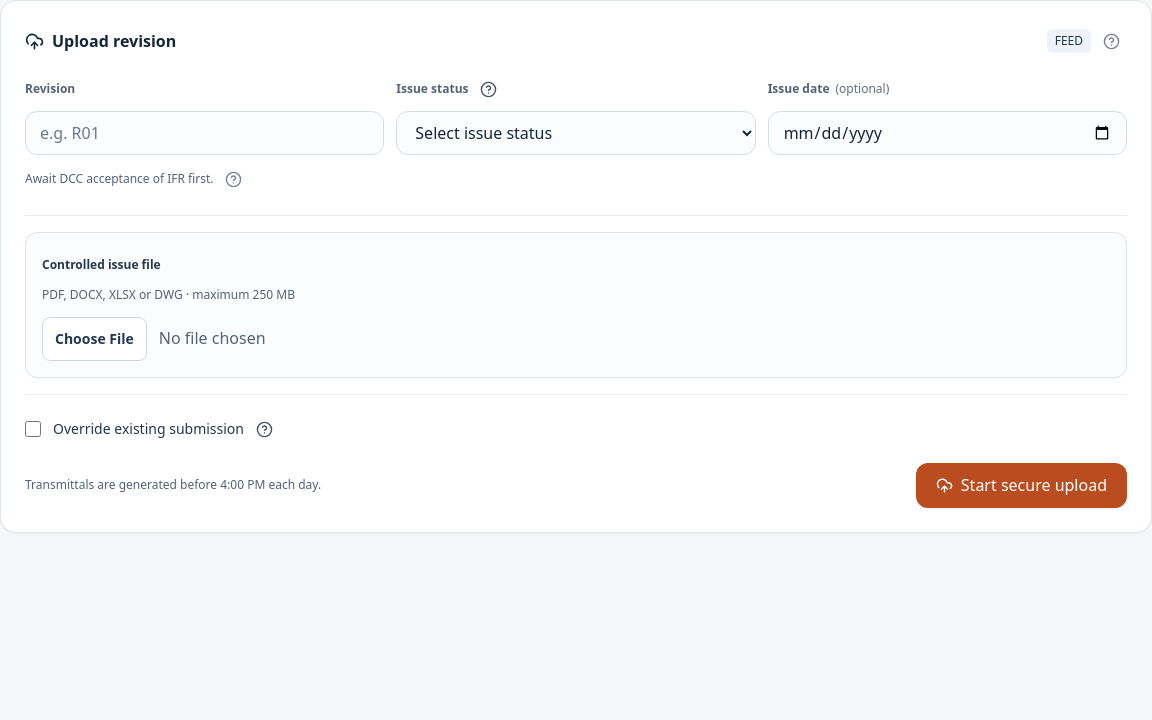
Scenario: submission override checkbox › warns and blocks secure upload if transmitted
Type "A" into the field labelled "Revision" at (205, 133), box [25, 111, 384, 155]
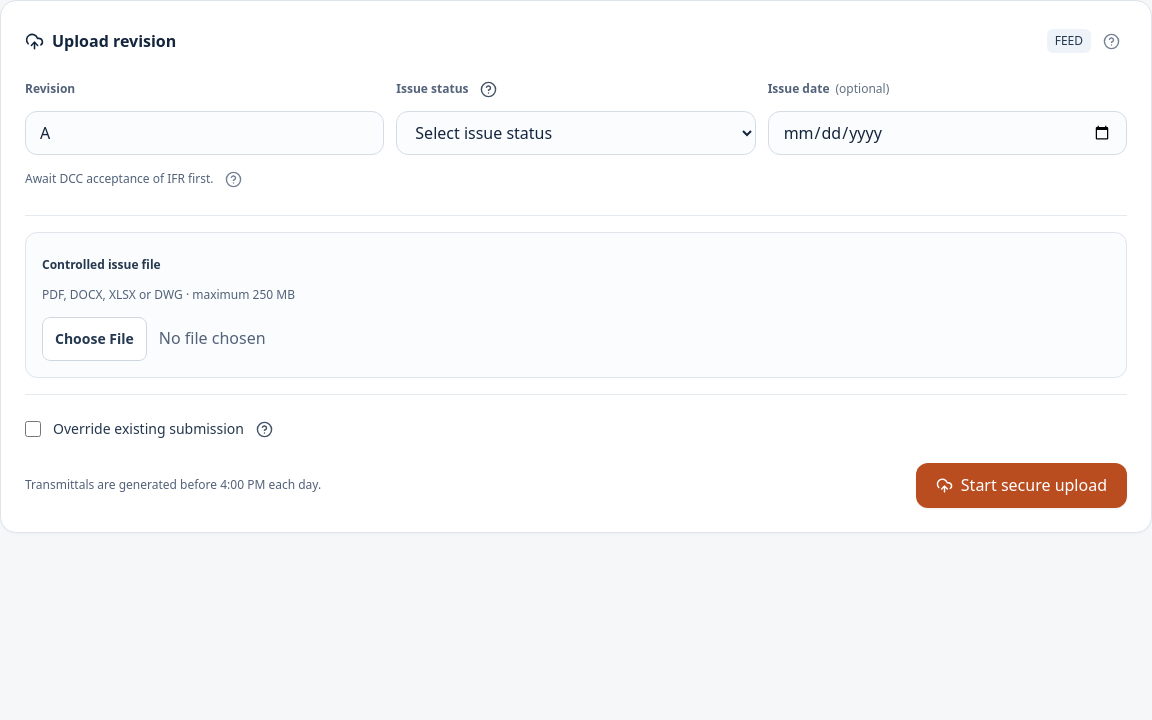
Select "Issued for Review (IFR)" in the dropdown at (576, 133), box [396, 111, 756, 155]
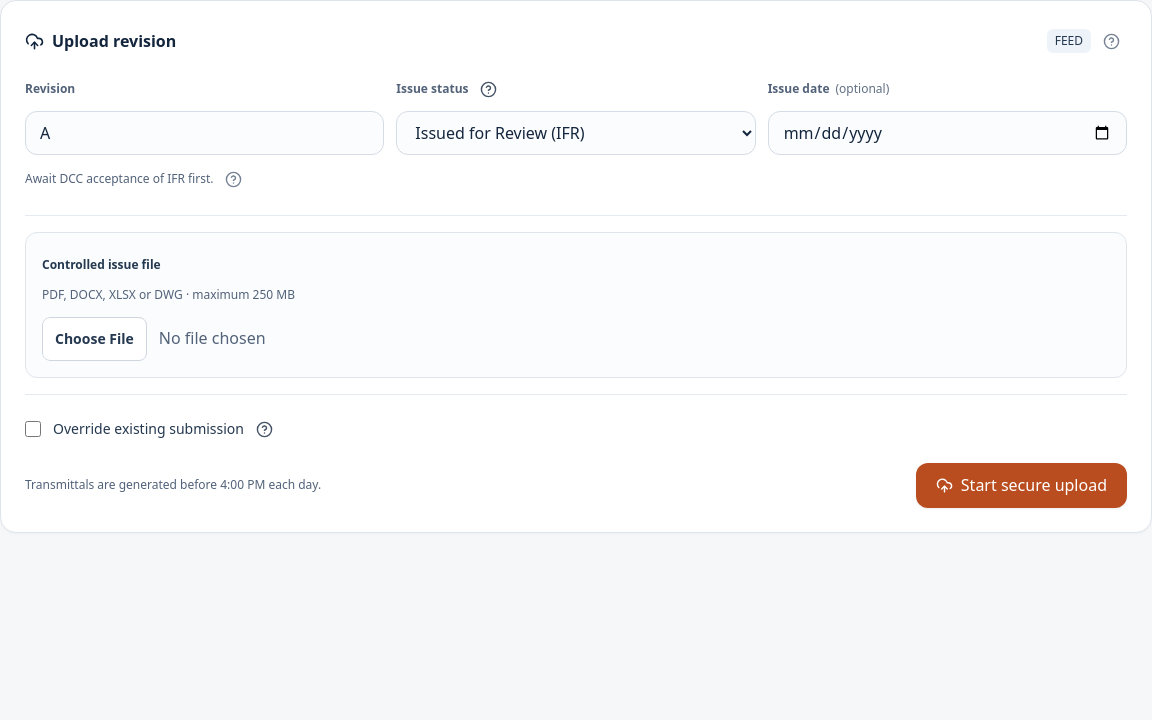
Click the checkbox at (33, 429), box [25, 421, 41, 437]
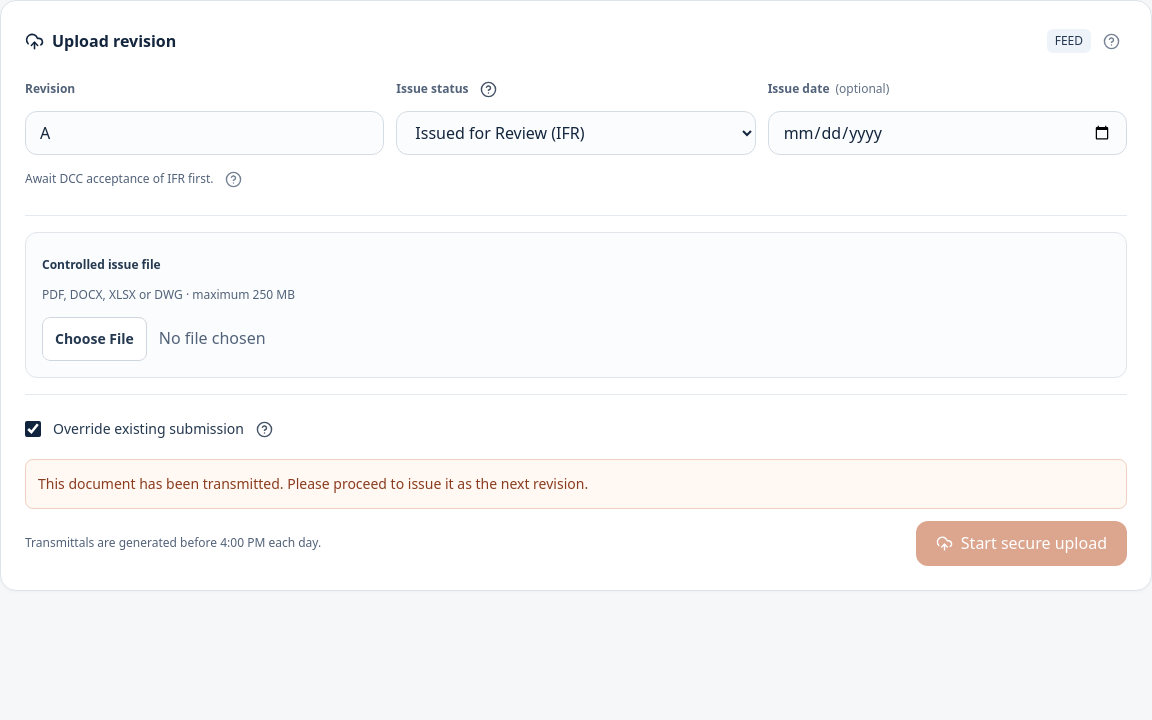
Check: the message shows "This document has been transmitted. Please proceed to issue it as the next revision.", box [38, 474, 588, 493]
Check: the button "Start secure upload" is disabled, box [916, 521, 1127, 566]
Click the checkbox at (33, 429), box [25, 421, 41, 437]
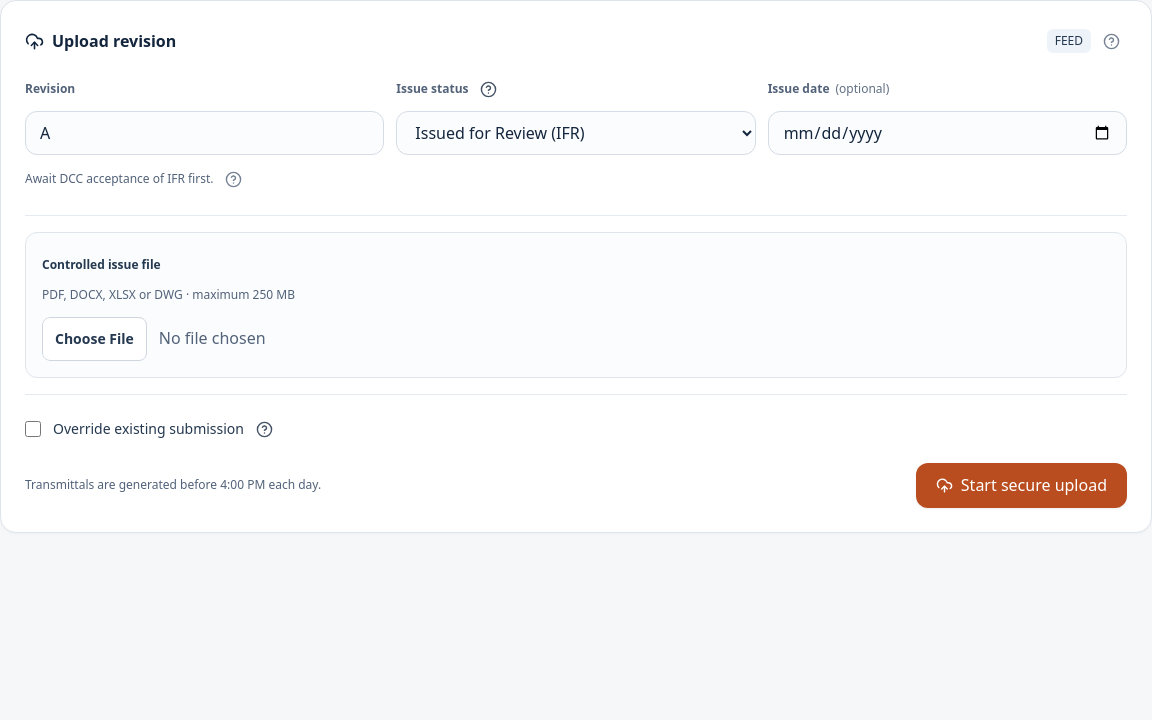
Check: the message is gone
Check: the button "Start secure upload" is enabled, box [916, 463, 1127, 508]
